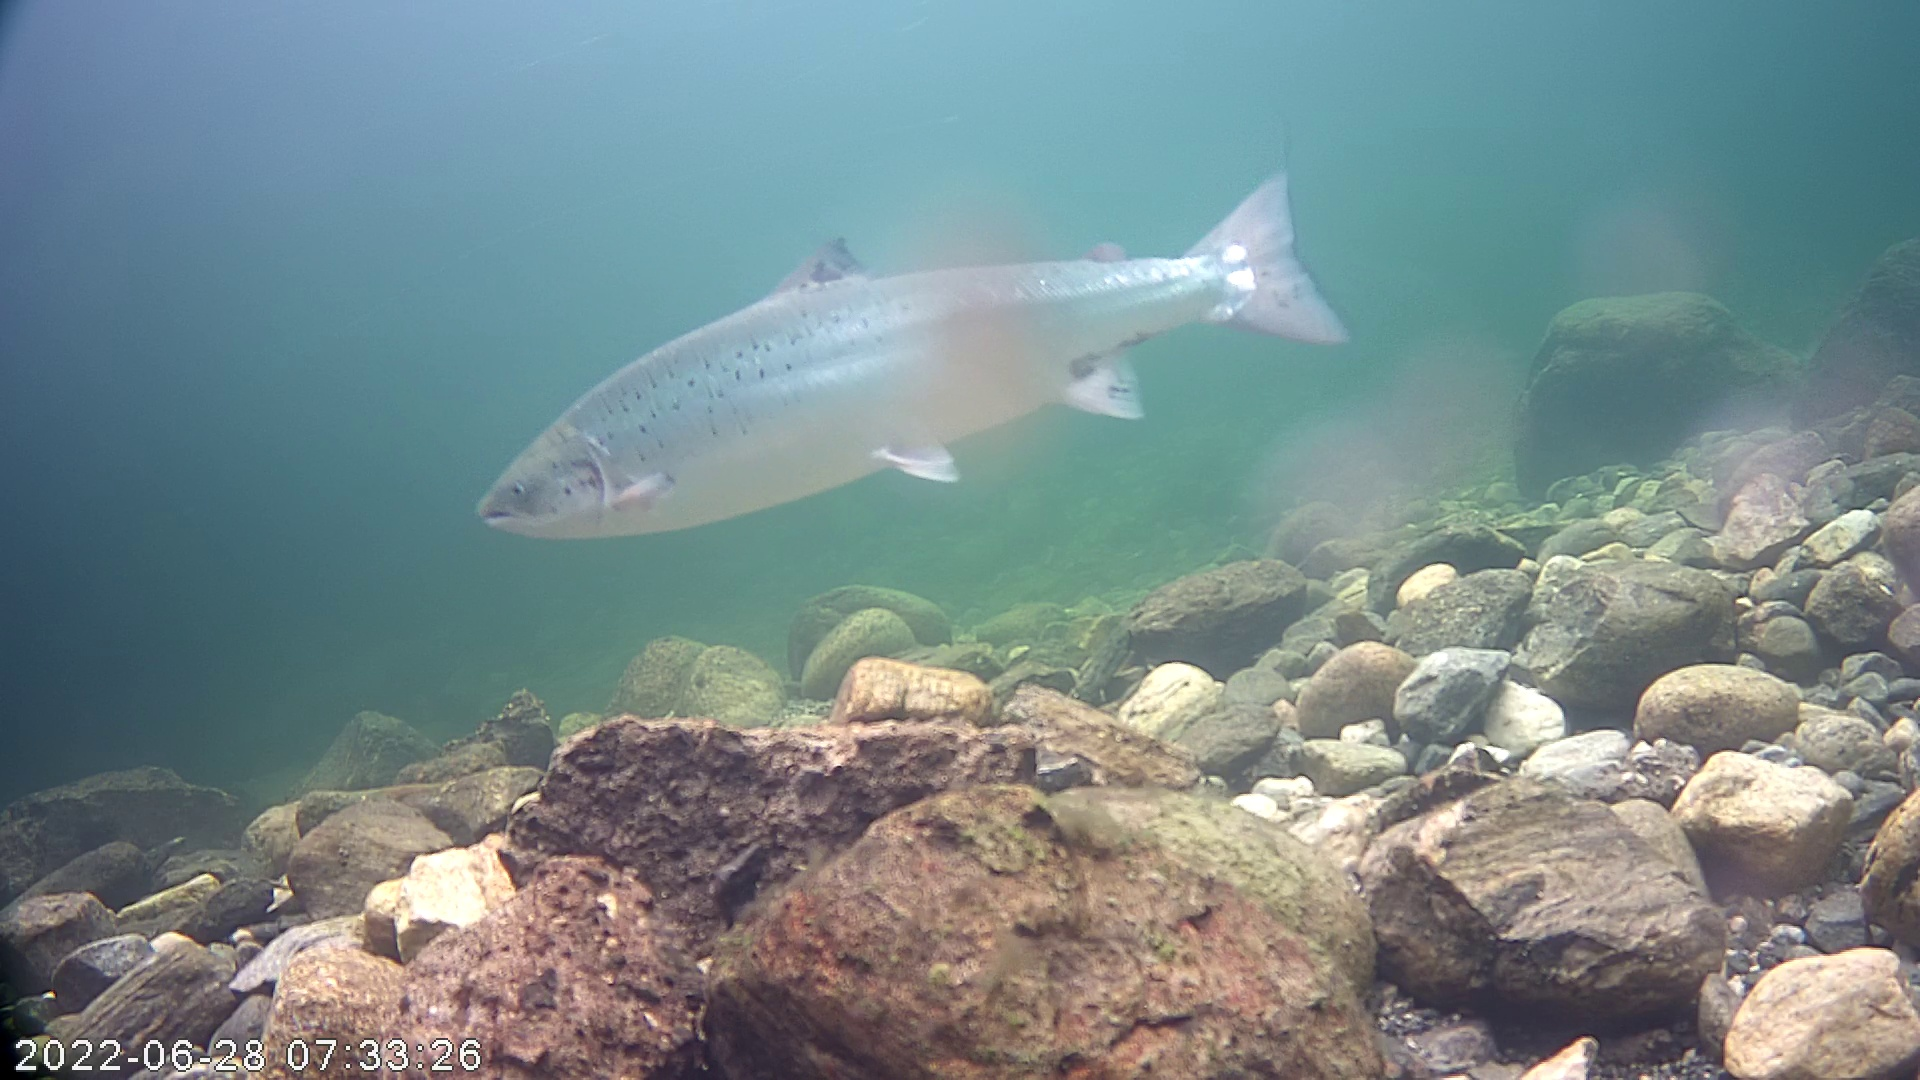salmon: (475, 121, 1371, 560)
